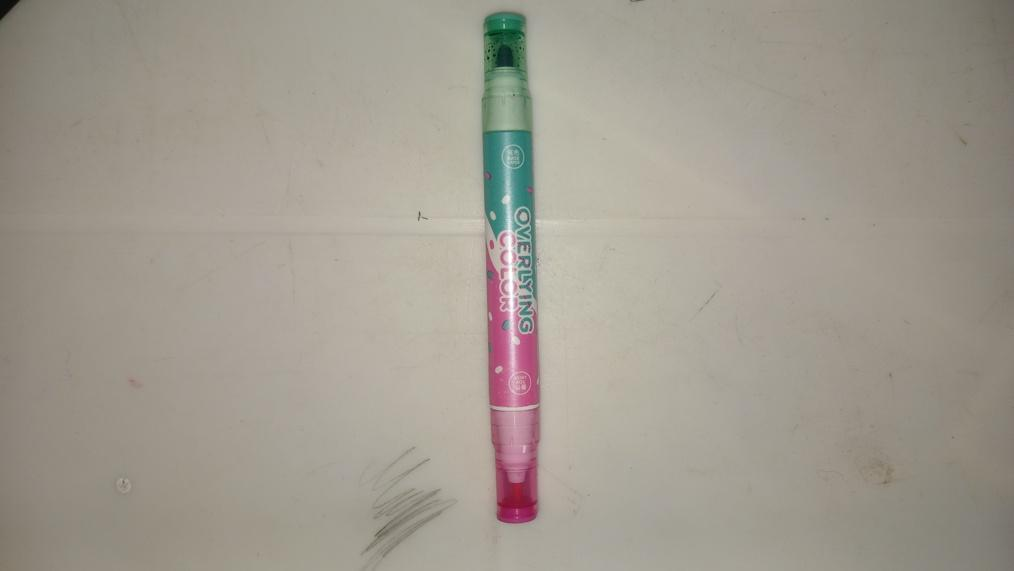Highlighter: (483, 12, 543, 523)
